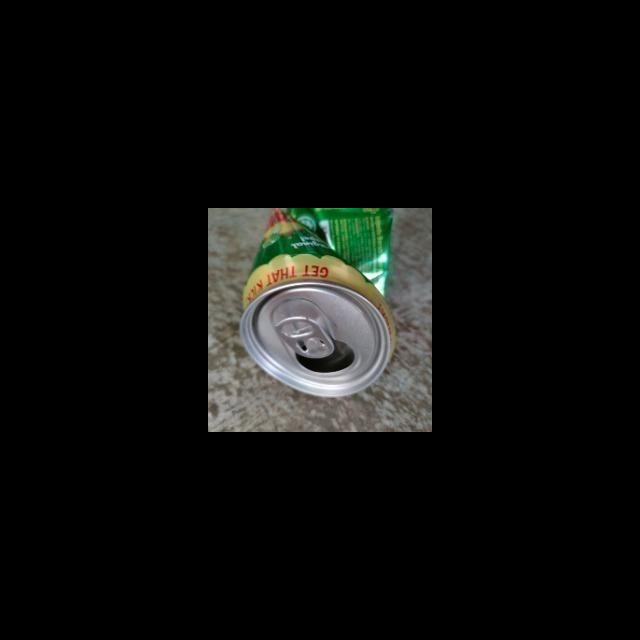metal: (237, 208, 400, 399)
